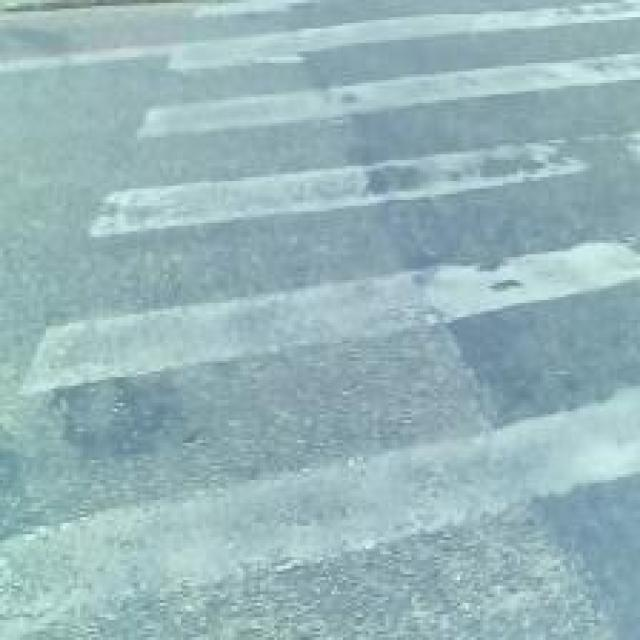walk-crossing: (173, 33, 630, 567)
